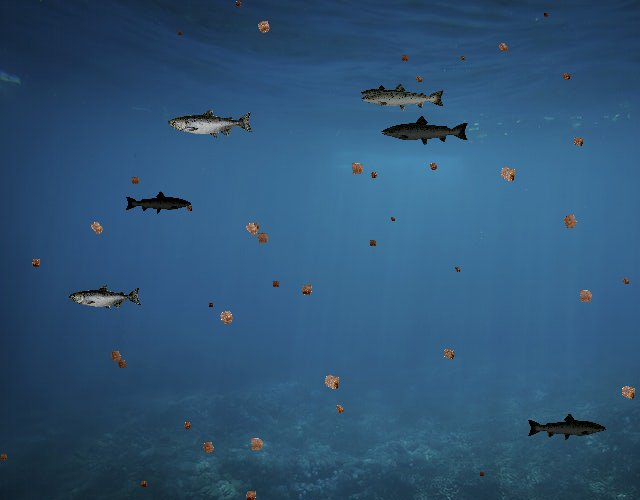Fish: (380, 115, 470, 147), (360, 82, 446, 113), (168, 108, 254, 139), (526, 412, 607, 442), (70, 285, 143, 311), (125, 191, 193, 215), (361, 85, 408, 102)
Pellet: (243, 431, 270, 458), (345, 156, 370, 181), (493, 37, 513, 57), (240, 485, 262, 500), (366, 236, 380, 250), (458, 53, 468, 62)
